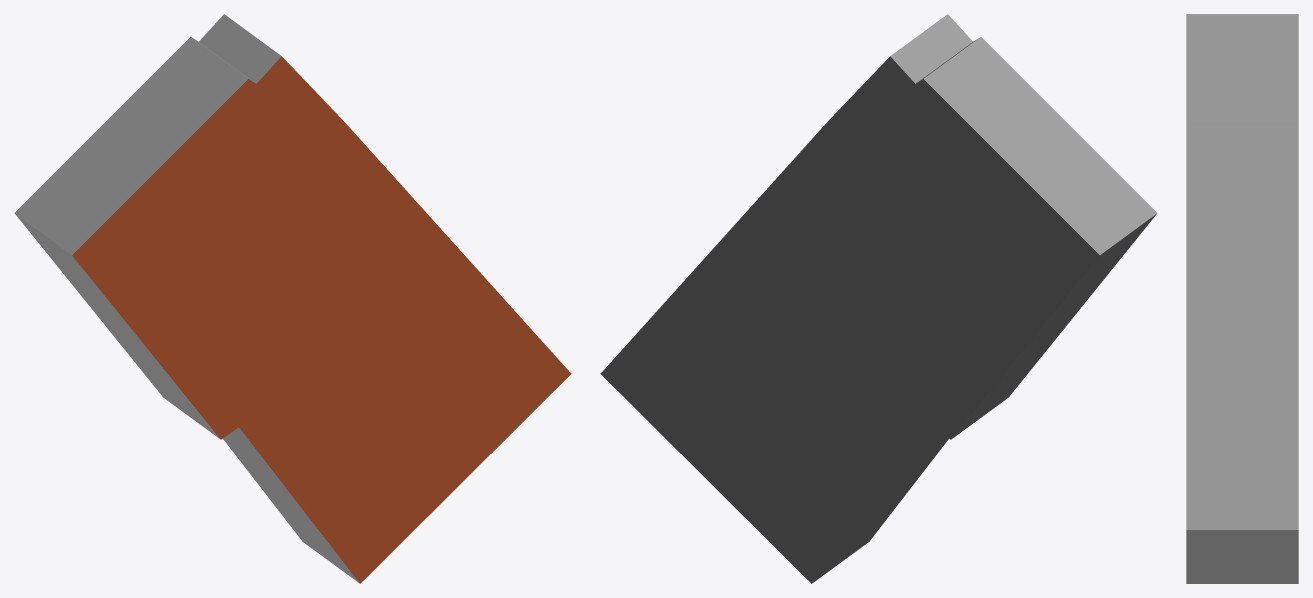
File: construction_1613_assumed_A_Casa_h6m.obj
3 renders of one model, left to right at view 1: azimuth 30°, elevation 25°; view 2: azimuth 150°, elevation 25°; view 3: azimuth 270°, elevation 25°, orthographic. The views are drawn at different scales.
Parts seen in each view (by area): view 1: construction_1613_assumed_A_Casa; view 2: construction_1613_assumed_A_Casa; view 3: construction_1613_assumed_A_Casa.
Boxes of the visible parts, left/top/right/bottom form: construction_1613_assumed_A_Casa: left=14, top=14, right=571, bottom=583; construction_1613_assumed_A_Casa: left=600, top=14, right=1157, bottom=583; construction_1613_assumed_A_Casa: left=1186, top=14, right=1298, bottom=583.
Size of the model in its own units: 30 by 31.39 by 6.
